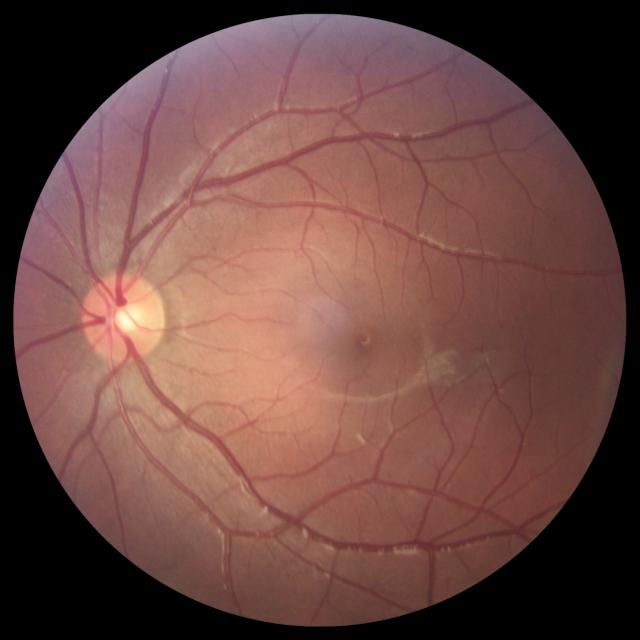OC: (107, 301, 141, 334)
OD: (83, 272, 166, 360)
